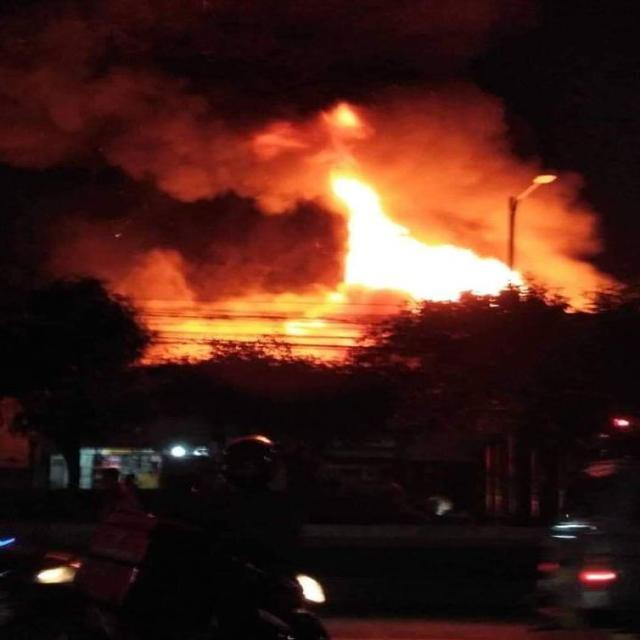Fire: (341, 183, 524, 304)
Smoke: (4, 2, 542, 170), (120, 199, 378, 347), (542, 200, 610, 310)
